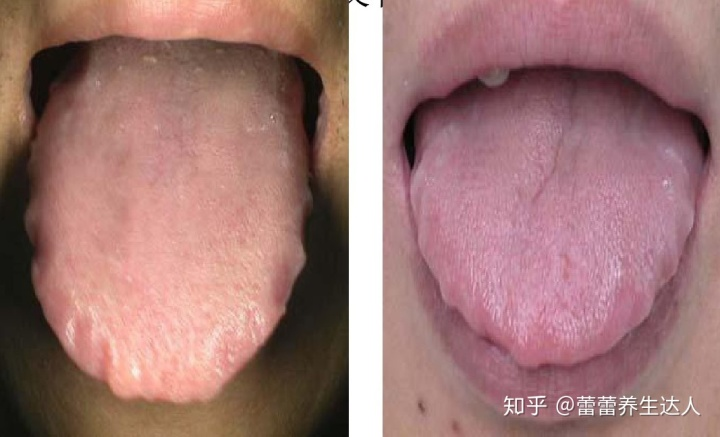baitaishe: (25, 41, 314, 405), (406, 73, 703, 372)
chihenshe: (645, 203, 697, 314), (270, 189, 314, 318), (25, 145, 51, 286)
